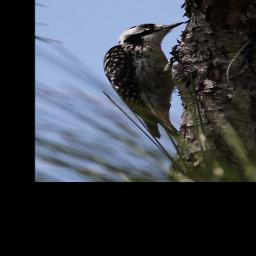Woodpecker: (95, 15, 195, 144)
